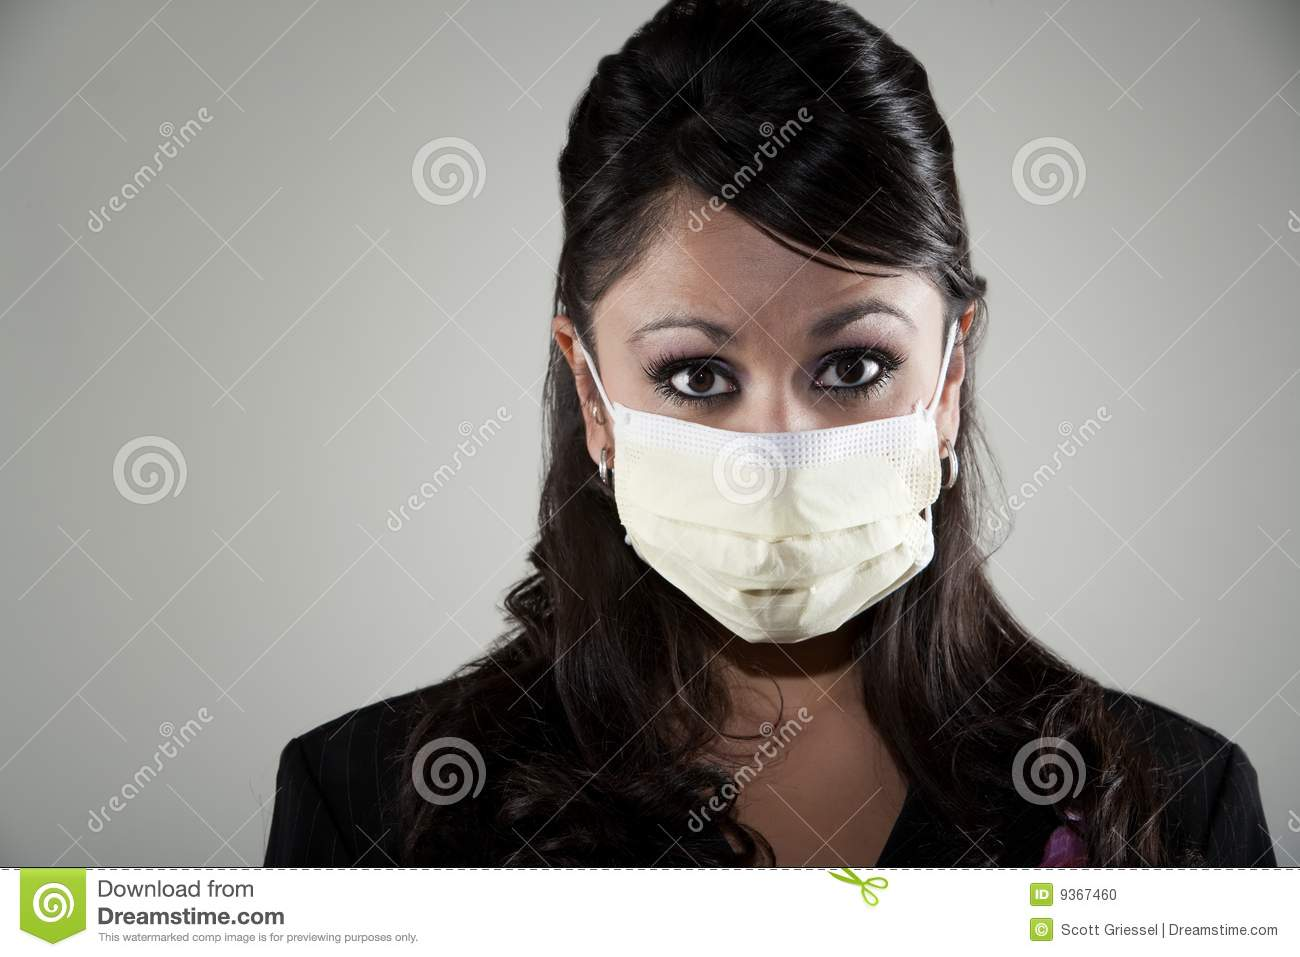mask: (608, 399, 945, 639)
